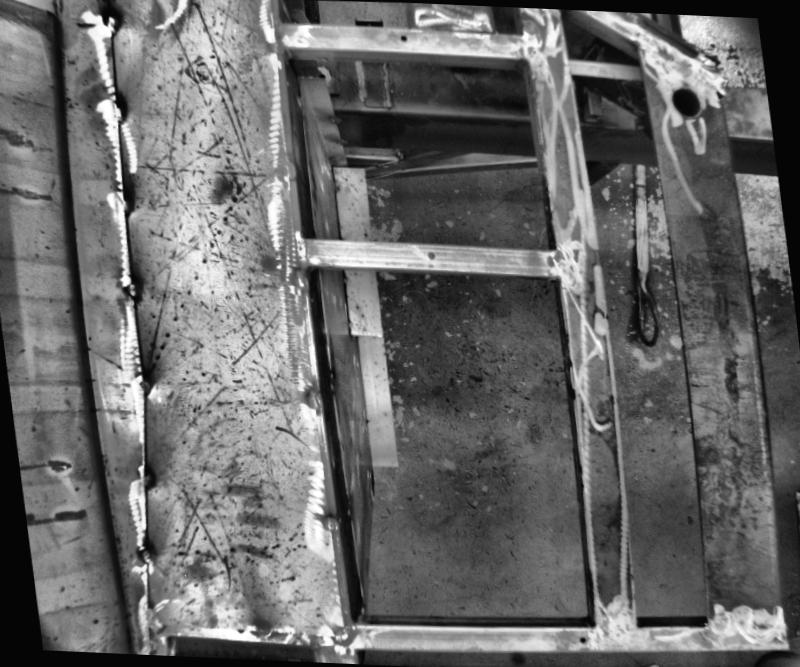hole: (666, 83, 704, 121), (426, 250, 435, 258), (399, 34, 408, 41), (578, 633, 586, 640)
